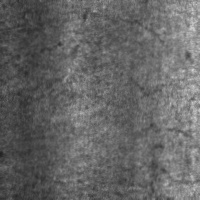crazing: (79, 10, 173, 98), (113, 122, 198, 197)
